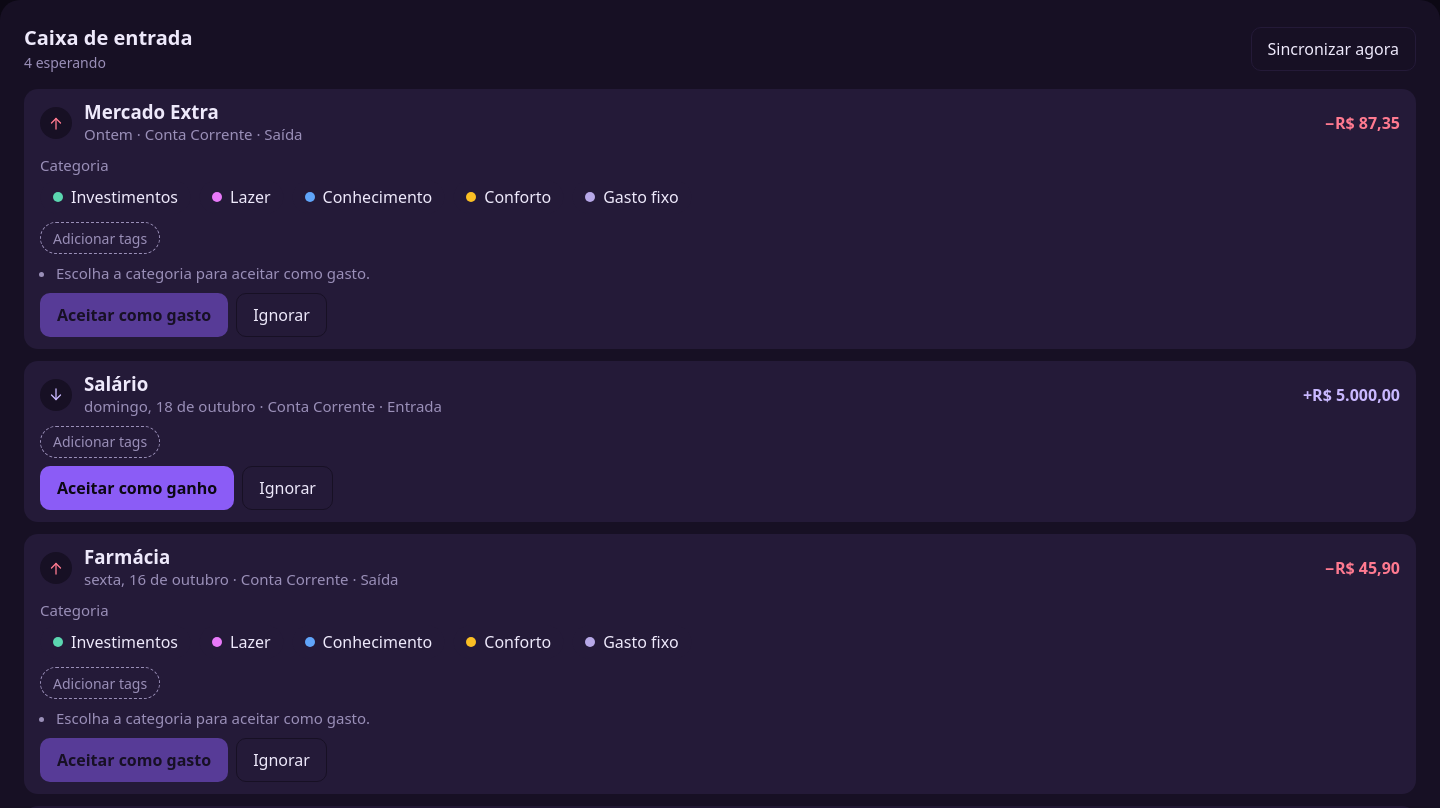
Scenario: CaixaDeEntrada › tag digitada e não confirmada bloqueia o aceite
Expected: the button "Sincronizar agora" is shown, [1250,26,1416,70]
Click the button "Adicionar tags" below "Salário".
click(100, 442)  # box [40,426,160,458]
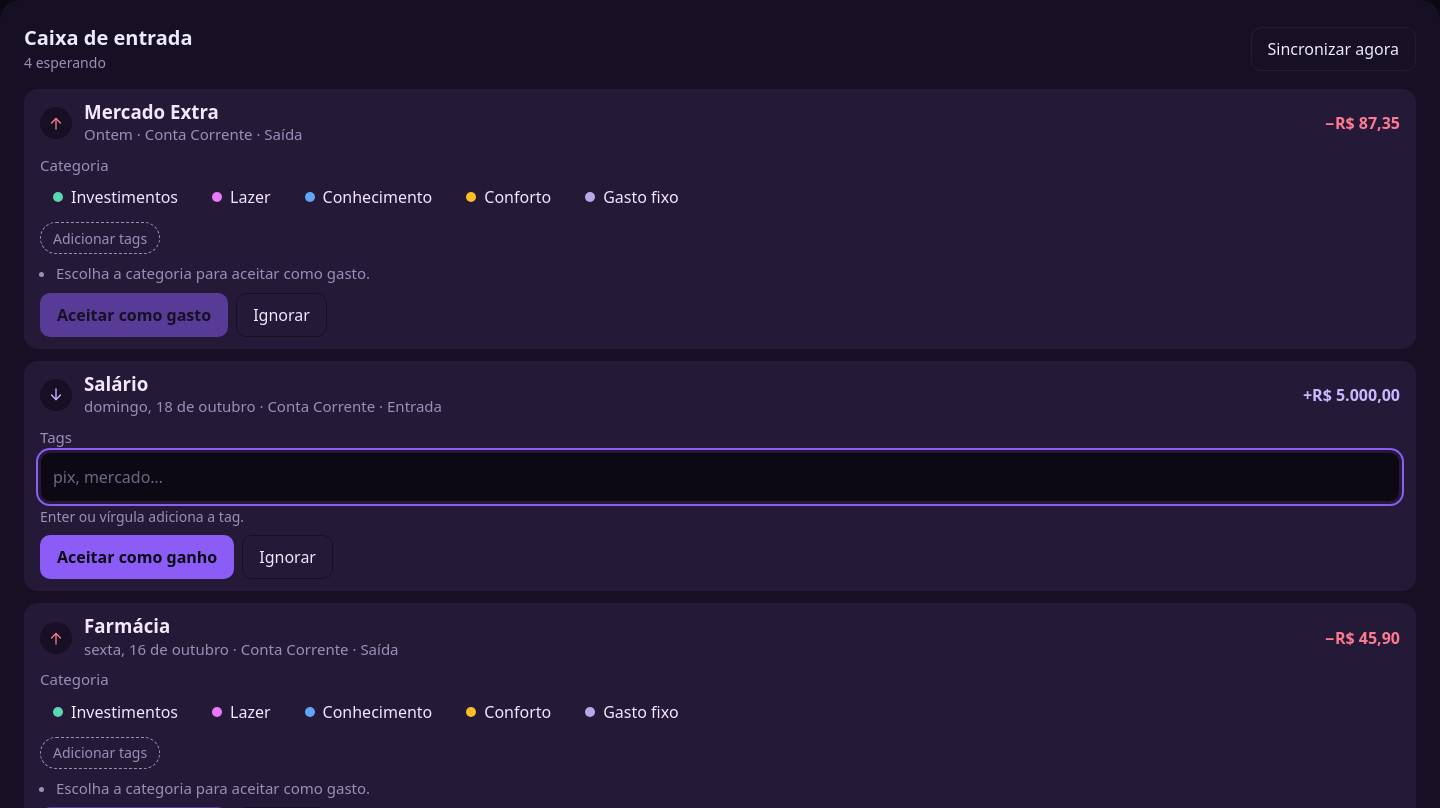
Type "pix" into the dropdown labelled "Tags".
click(720, 477); type("pix")  # box [53,461,1387,493]
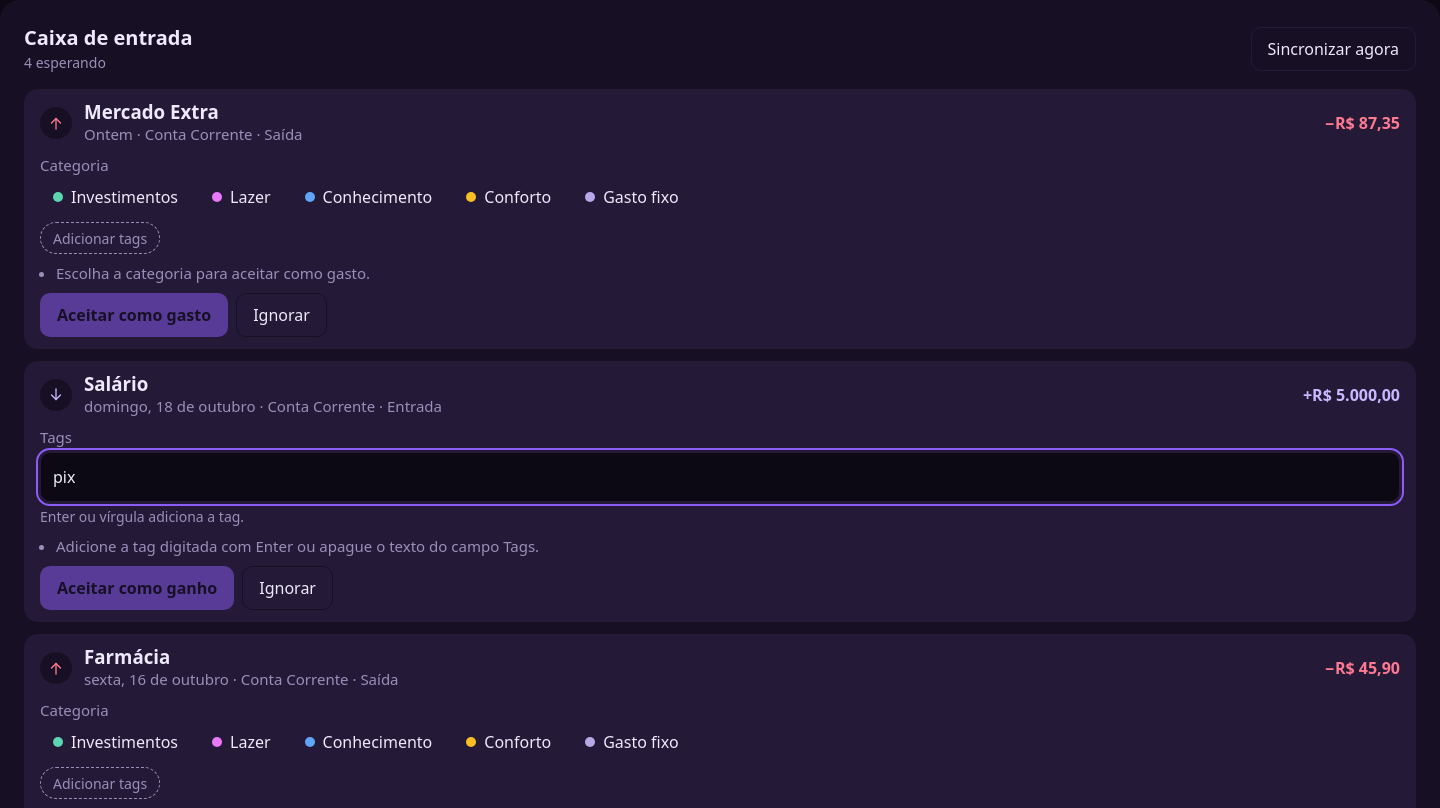
Expected: the button "Aceitar como ganho" is disabled, [40,566,234,610]
